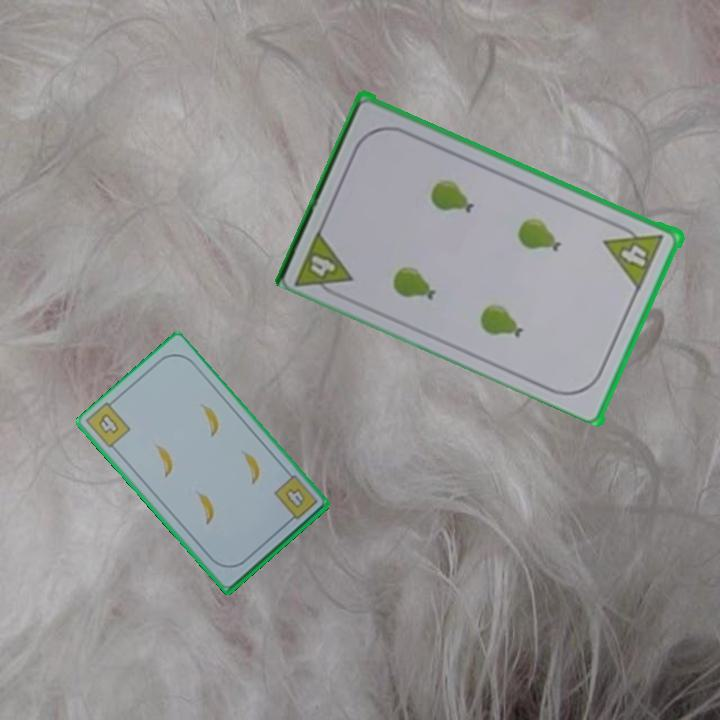4b: (270, 472, 320, 527), (94, 410, 122, 437)
4p: (602, 240, 654, 290), (307, 251, 339, 280)
